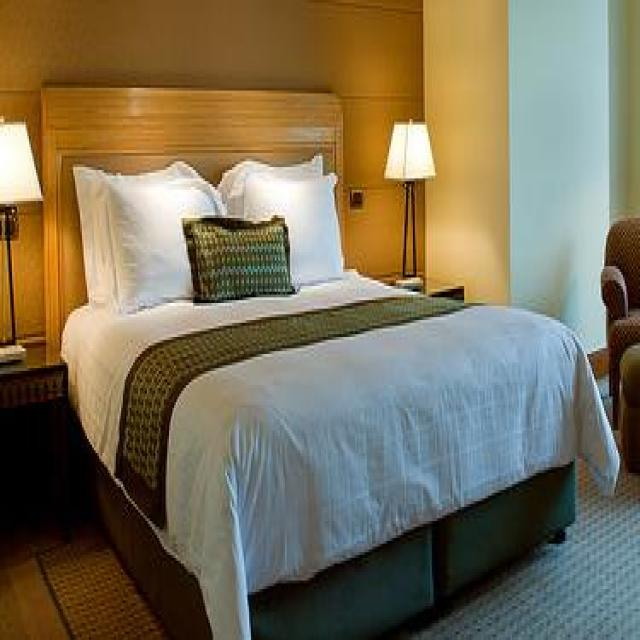bed: (39, 82, 620, 637)
chair: (599, 215, 638, 428)
